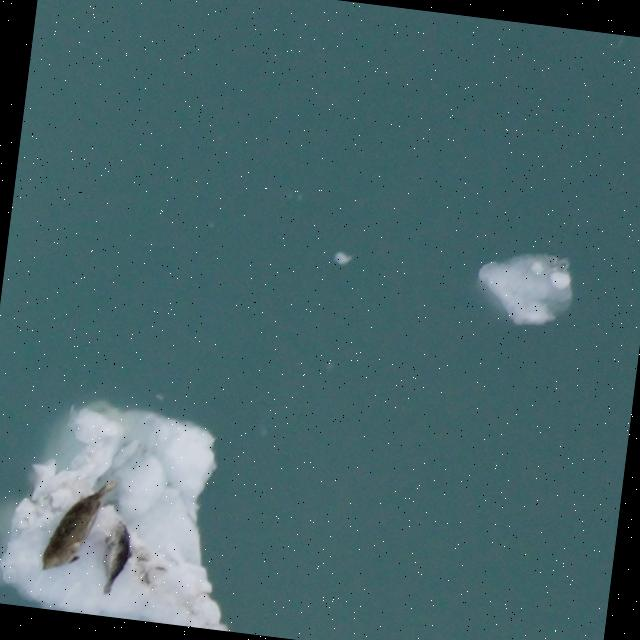seal: (37, 469, 120, 578), (96, 514, 138, 602)
